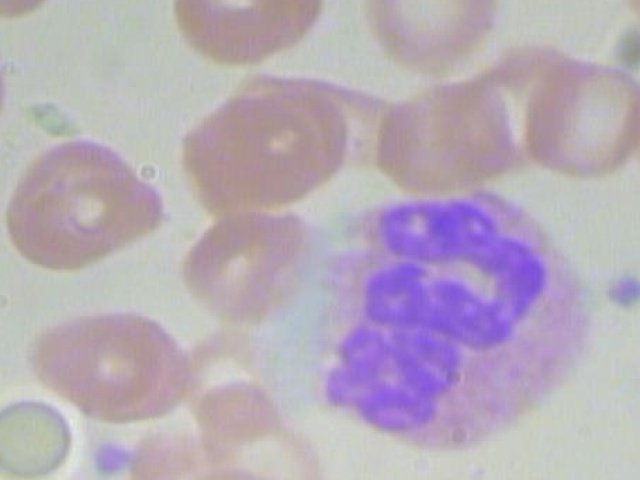Platelets: (595, 268, 640, 319), (90, 437, 134, 480)
WBC: (285, 177, 598, 456)
